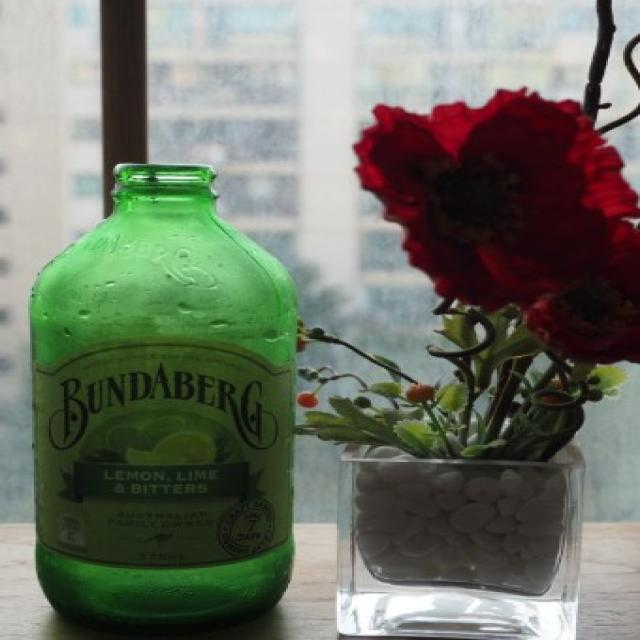BotolKaca: (27, 160, 300, 630)
